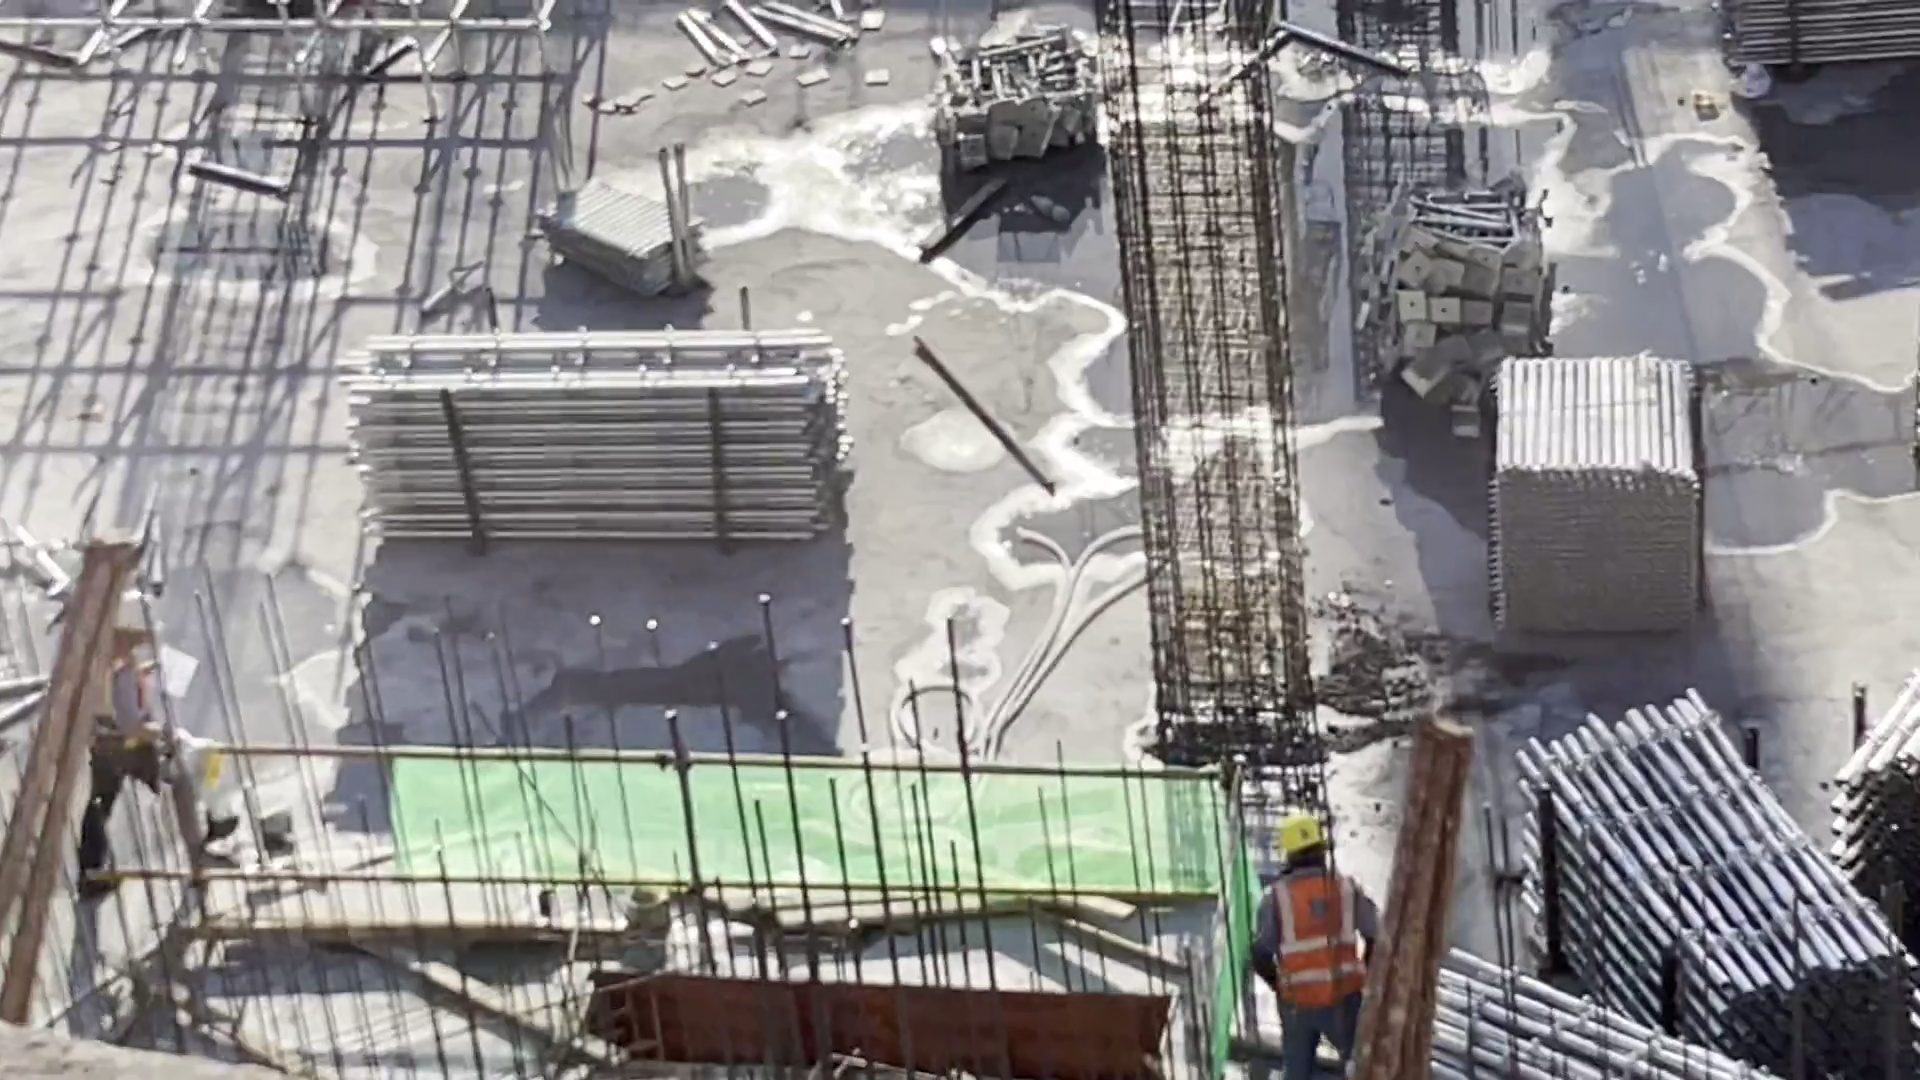helmet: (105, 598, 157, 644), (1282, 826, 1327, 863)
person: (1254, 824, 1386, 1080), (90, 598, 192, 880)
scaffold: (1512, 697, 1844, 1008), (336, 363, 856, 532), (1465, 379, 1751, 641), (1448, 939, 1696, 1080), (541, 170, 733, 308), (1845, 651, 1920, 877)
vest: (1277, 883, 1371, 1021), (89, 652, 167, 779)
